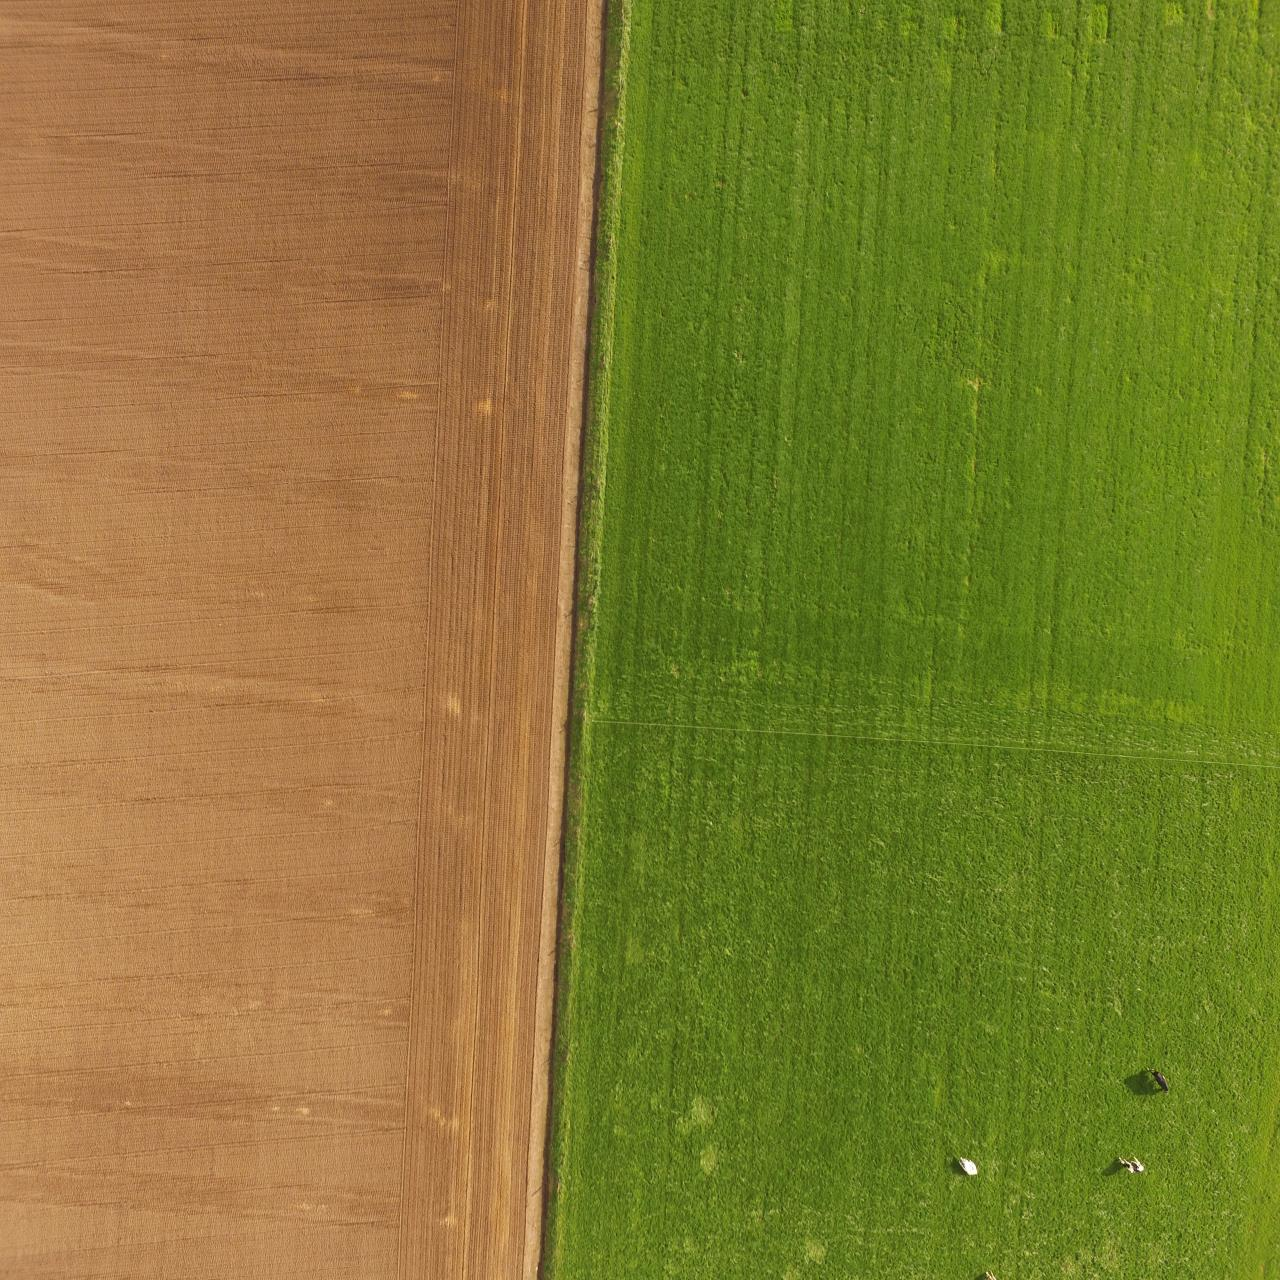cow: (1146, 1061, 1175, 1101), (958, 1152, 978, 1183), (1117, 1153, 1144, 1176)
